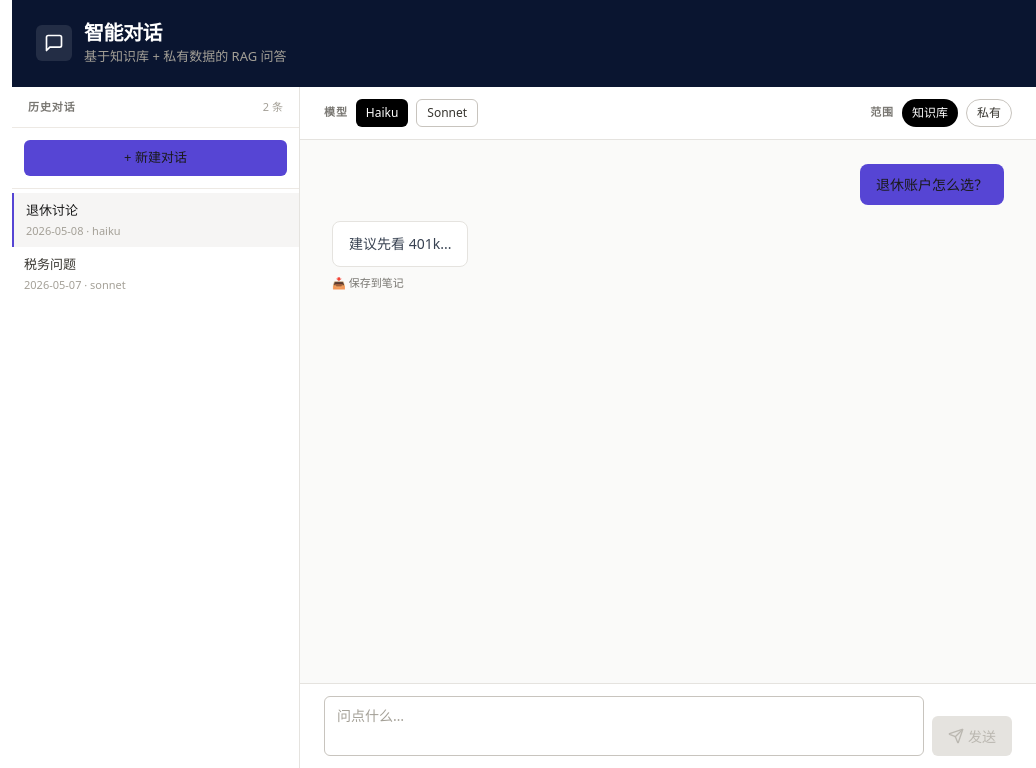
Test: ChatView save-to-notes › after successful save the form collapses and shows a confirmation
What coordinates should you click on to do the following:
click the button "📥 保存到笔记"
I would click on:
 (368, 283)
Its box is [332,274,404,291].
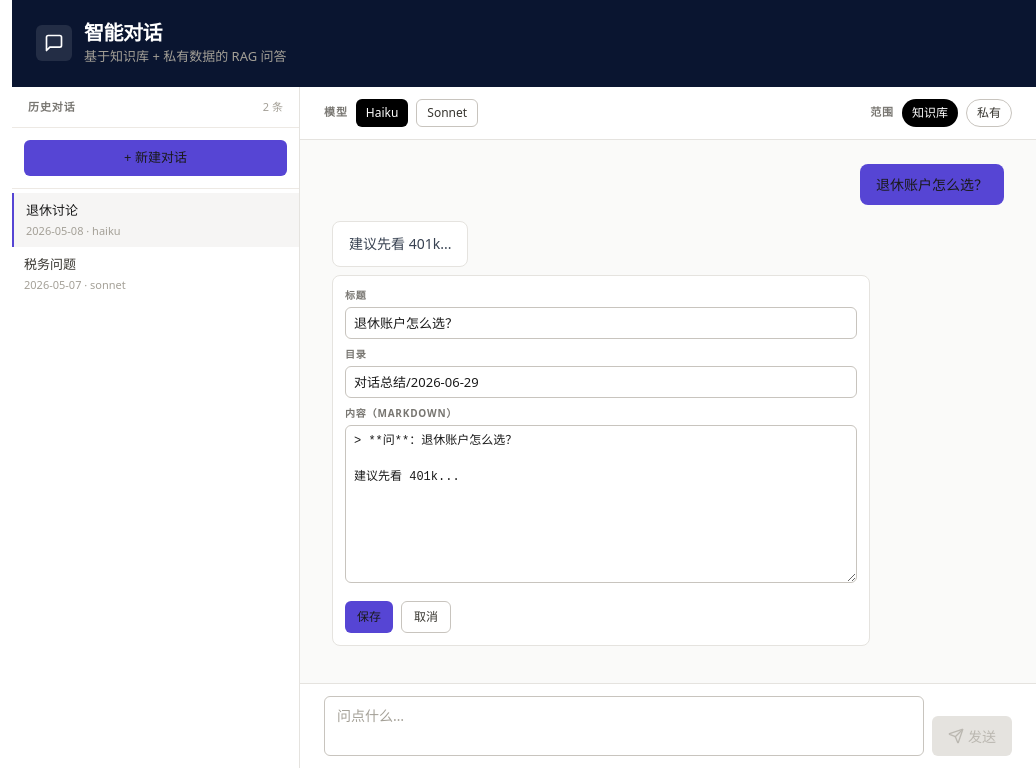
What coordinates should you click on to do the following:
click the button "保存"
I would click on:
 (369, 616)
Its box is [345,600,393,632].
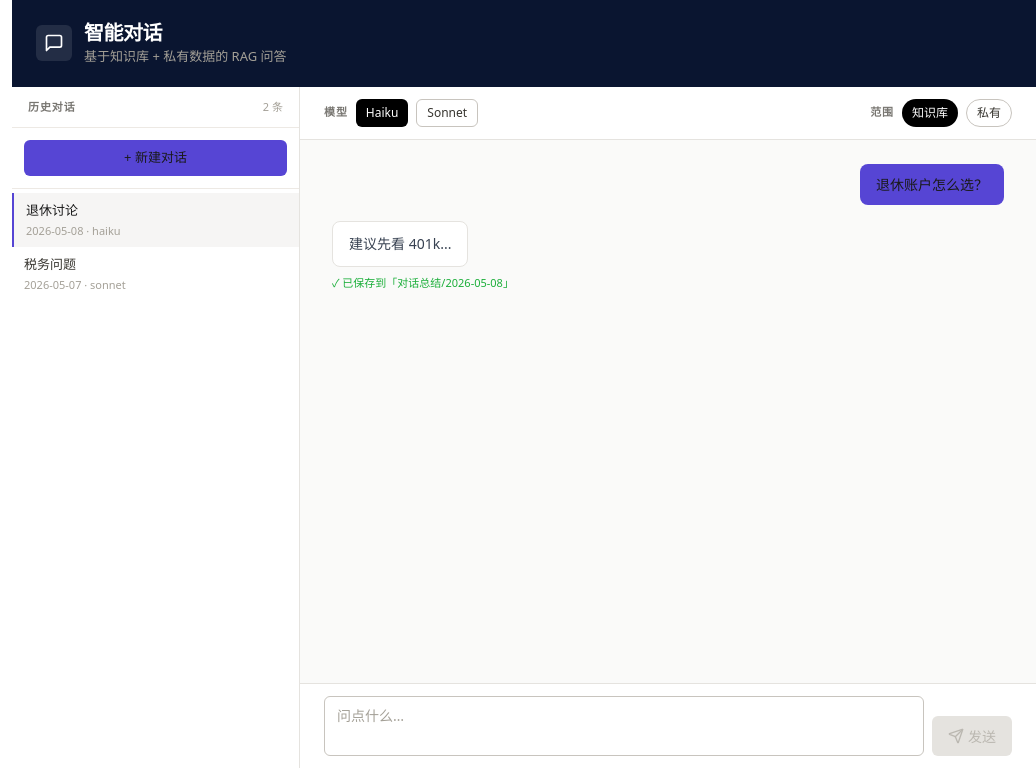
Now the text "✓ 已保存到「对话总结/2026-05-08」" is shown, box [332,274,514,291]
